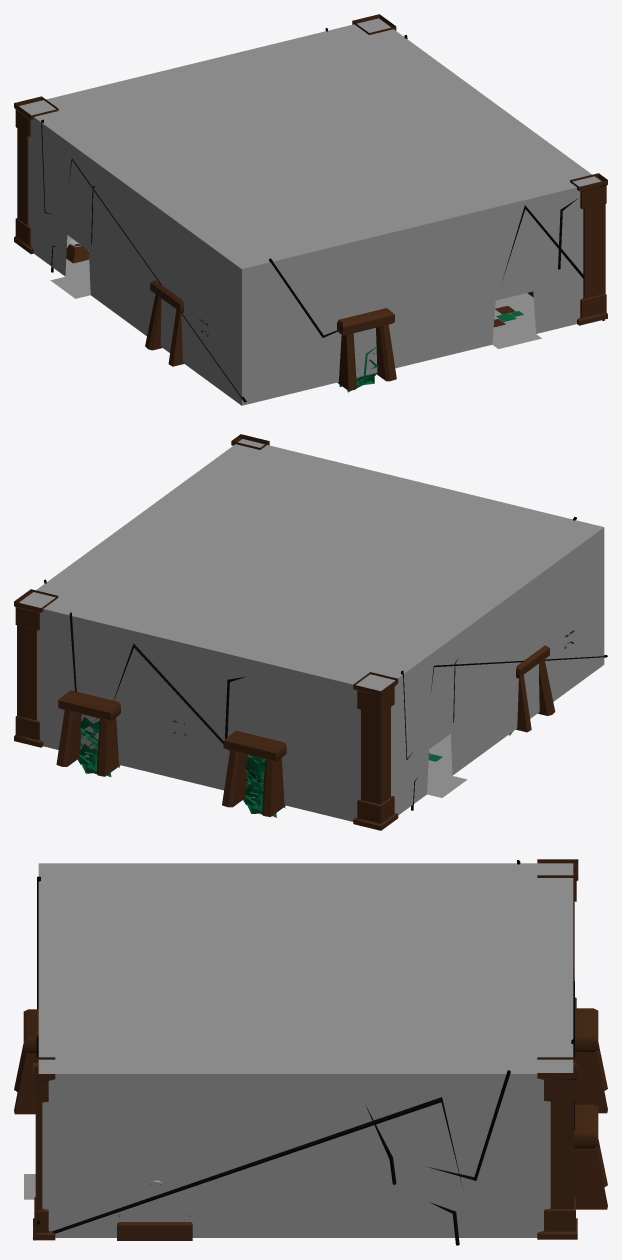
File: level02_floor03.FBX
The picture shows the model from 3 angles, top to bottom: view 1: azimuth 30°, elevation 25°; view 2: azimuth 150°, elevation 25°; view 3: azimuth 270°, elevation 25°; orthographic projection. The views are drawn at different scales.
Parts seen in each view (by area): view 1: floor03_bounds, floor03_props; view 2: floor03_bounds; view 3: floor03_bounds, floor03_props.
Part boxes in pixels (x1,y1,x2,y2): floor03_bounds: (14,14,607,405); floor03_props: (66,239,533,336); floor03_bounds: (14,434,607,830); floor03_bounds: (14,859,607,1245); floor03_props: (117,1180,192,1240).
Bounding box in the file's own units: 3372 × 1336 × 3805.
